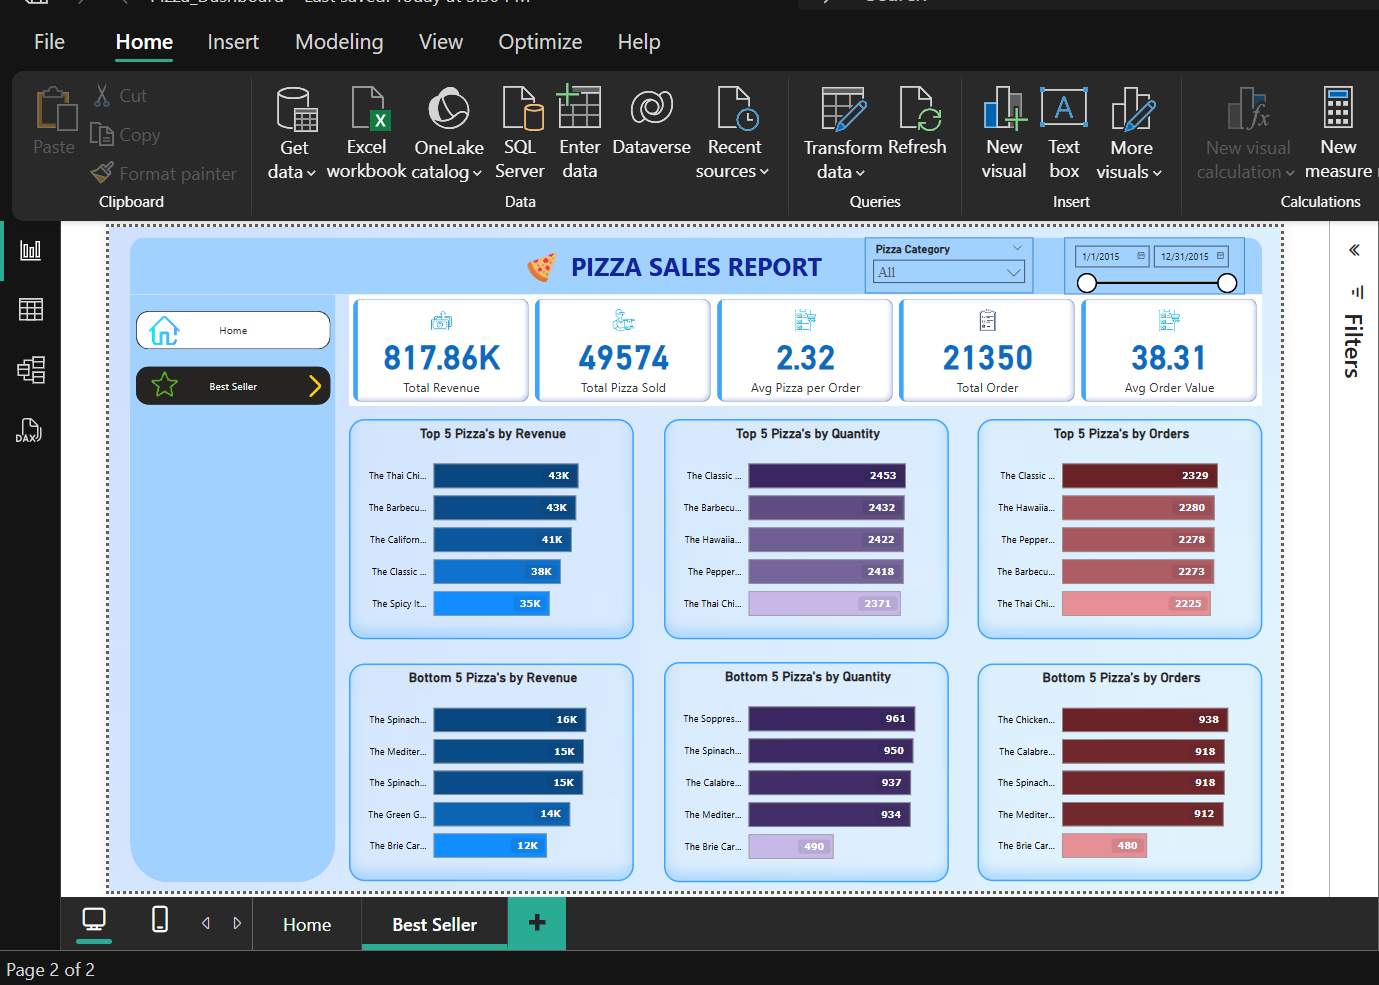

This screenshot's page, from the dashboard's own definition file:
{"tool":"powerbi","page":{"name":"Best Seller","canvas":[1500,850],"ordinal":1},"visuals":[{"type":"shape","box":[26.9,86.4,263.1,752.7],"z":0},{"type":"cardVisual","fields":{"Data":["pizza_sales.Total_Revenue","pizza_sales.Total_Pizza_Sold","pizza_sales.Avg_Pizza_per_Order","pizza_sales.Total_Order","pizza_sales.Avg_Order_Value"]},"box":[307.5,87.1,1168.9,142.6],"z":1000},{"type":"shape","box":[26.9,13.4,1449.8,73],"z":2000},{"type":"textbox","box":[572.2,23,359.1,61.4],"z":3000},{"type":"image","box":[514.6,26.9,78.7,49.9],"z":4000},{"type":"barChart","title":"Top 5 Pizza''s by Revenue","fields":{"Category":["pizza_sales.pizza_name"],"Y":["pizza_sales.Total_Revenue"]},"box":[307.2,245.8,364.8,282.3],"z":5000},{"type":"slicer","fields":{"Values":["pizza_sales.pizza_category"]},"box":[967.8,13.4,215.1,71],"z":14000},{"type":"slicer","fields":{"Values":["pizza_sales.order_date"]},"box":[1223.2,13.4,230.4,73],"z":15000},{"type":"barChart","title":"Bottom 5 Pizza''s by Revenue","fields":{"Category":["pizza_sales.pizza_name"],"Y":["pizza_sales.Total_Revenue"]},"box":[307.2,558.8,364.8,278.4],"z":15001},{"type":"barChart","title":"Top 5 Pizza''s by Quantity","fields":{"Category":["pizza_sales.pizza_name"],"Y":["pizza_sales.Total_Pizza_Sold"]},"box":[710.5,245.8,364.8,282.3],"z":15002},{"type":"barChart","title":"Top 5 Pizza''s by Orders","fields":{"Category":["pizza_sales.pizza_name"],"Y":["pizza_sales.Total_Order"]},"box":[1111.8,245.8,364.8,282.3],"z":15003},{"type":"barChart","title":"Bottom 5 Pizza''s by Orders","fields":{"Category":["pizza_sales.pizza_name"],"Y":["pizza_sales.Total_Order"]},"box":[1111.8,558.8,364.8,278.4],"z":15005},{"type":"barChart","title":"Bottom 5 Pizza''s by Quantity","fields":{"Category":["pizza_sales.pizza_name"],"Y":["pizza_sales.Total_Pizza_Sold"]},"box":[710.5,556.9,364.8,282.3],"z":15006},{"type":"pageNavigator","box":[34.6,178.6,249.6,49.9],"z":15007},{"type":"pageNavigator","box":[34.6,107.5,249.6,49.9],"z":15008},{"type":"image","box":[243.9,178.6,40.3,49.9],"z":15009},{"type":"image","box":[34.6,107.5,73,49.9],"z":15010},{"type":"image","box":[40.3,178.6,61.4,44.2],"z":15011}]}

Visuals, with their boxes on the page's 1500x850 design canvas (x1, y1, x2, y2). These are canvas units, not pixel positions in the 1379x985 screenshot, which may show the page scaled, cropped or inside an application window:
shape: box=[27, 86, 290, 839]
cardVisual - pizza_sales.Total_Revenue x pizza_sales.Total_Pizza_Sold: box=[308, 87, 1476, 230]
shape: box=[27, 13, 1477, 86]
textbox: box=[572, 23, 931, 84]
image: box=[515, 27, 593, 77]
"Top 5 Pizza''s by Revenue" barChart: box=[307, 246, 672, 528]
slicer - pizza_sales.pizza_category: box=[968, 13, 1183, 84]
slicer - pizza_sales.order_date: box=[1223, 13, 1454, 86]
"Bottom 5 Pizza''s by Revenue" barChart: box=[307, 559, 672, 837]
"Top 5 Pizza''s by Quantity" barChart: box=[710, 246, 1075, 528]
"Top 5 Pizza''s by Orders" barChart: box=[1112, 246, 1477, 528]
"Bottom 5 Pizza''s by Orders" barChart: box=[1112, 559, 1477, 837]
"Bottom 5 Pizza''s by Quantity" barChart: box=[710, 557, 1075, 839]
pageNavigator: box=[35, 179, 284, 228]
pageNavigator: box=[35, 108, 284, 157]
image: box=[244, 179, 284, 228]
image: box=[35, 108, 108, 157]
image: box=[40, 179, 102, 223]
